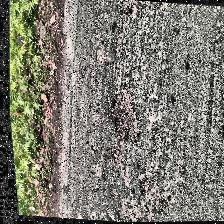pothole: (101, 81, 147, 147)
